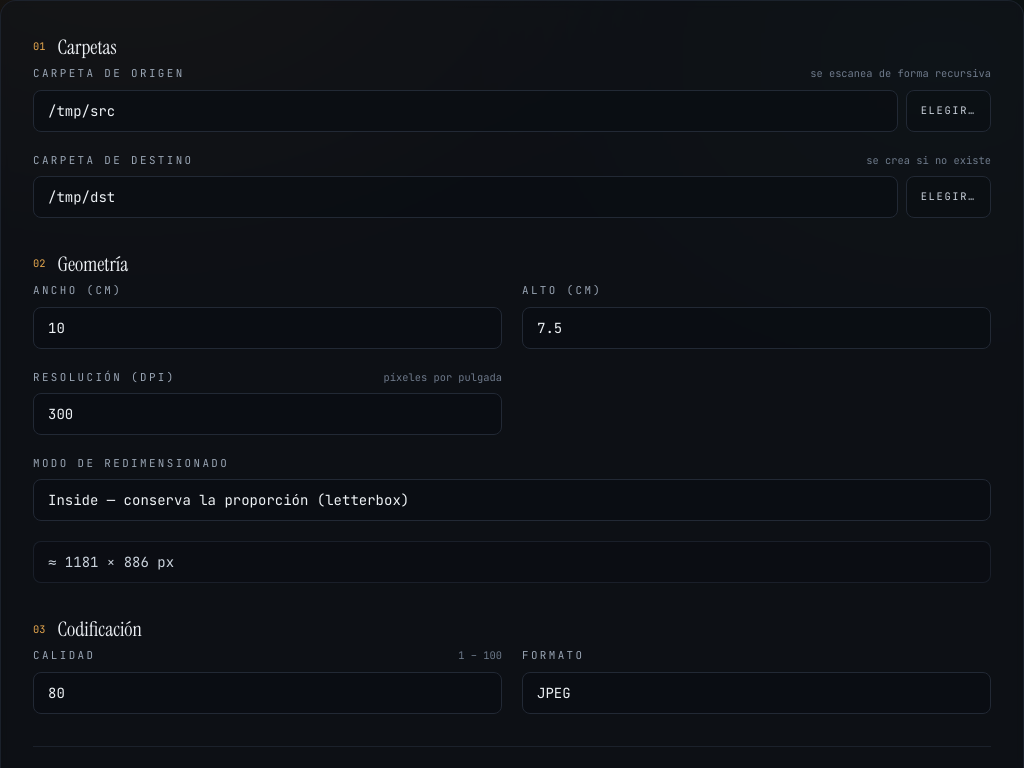
ConfigForm › updates the pixel preview when the DPI changes
The image size is (1024, 768).
Replace the text in the number field labelled "Resolución (DPI)" with "150" at (268, 414), box [33,393,502,435]
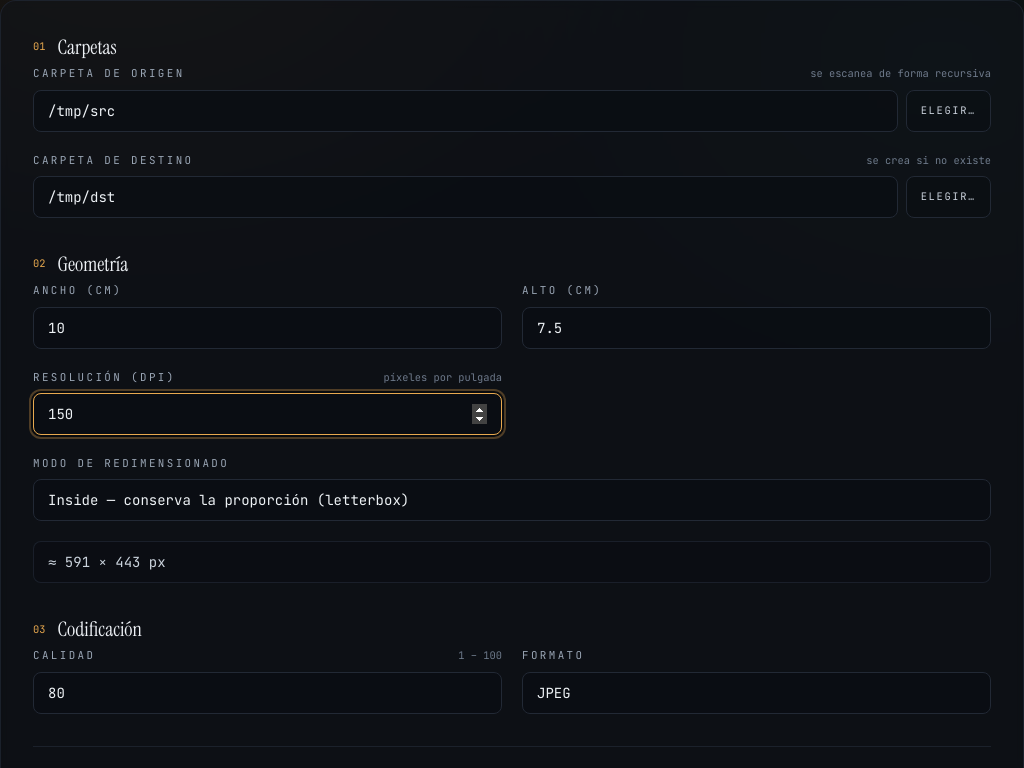
Expected: the text with test id "px-preview" reads "≈ 591 × 443 px", [33,542,991,584]
